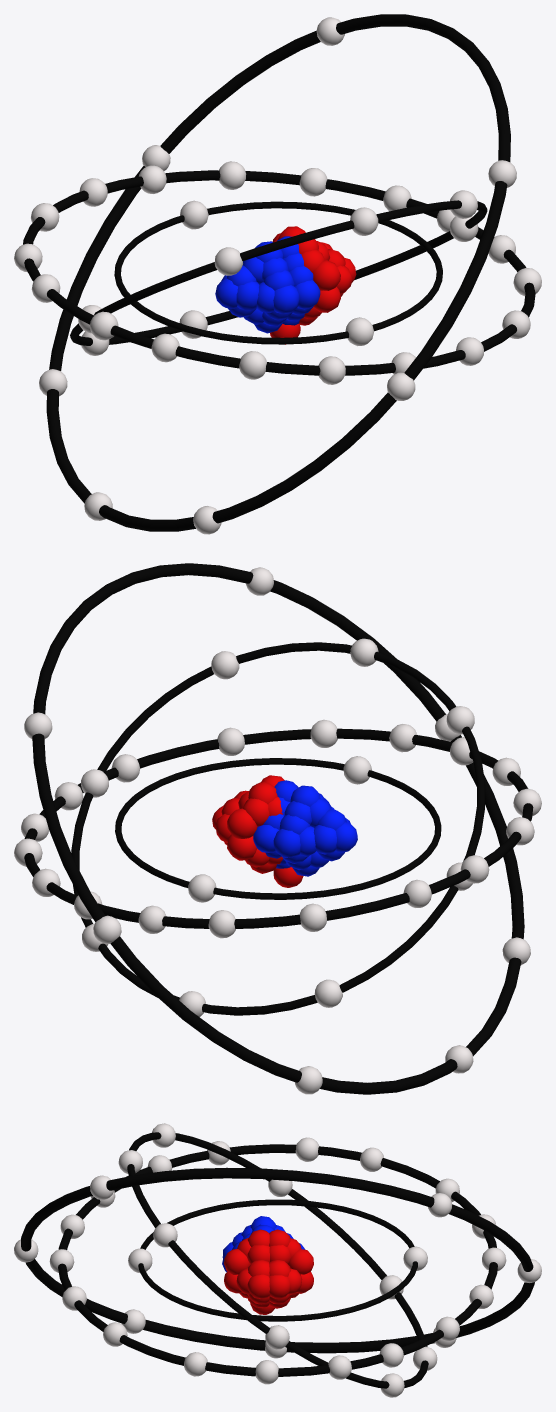
File: 35 Bromo.fbx
The picture shows the model from 3 angles, top to bottom: view 1: azimuth 30°, elevation 25°; view 2: azimuth 150°, elevation 25°; view 3: azimuth 270°, elevation 25°; orthographic projection. The views are drawn at different scales.
Visible parts, largest first — view 1: Orbita.004, Nucleo.001, Orbita.003, Orbita.002, Orbita.001, Electron.009, Electron.012, Electron.015, Electron.028, Electron.024, Electron.019, Electron (+5 smaller); view 2: Orbita.004, Nucleo.001, Orbita.002, Orbita.003, Orbita.001, Electron.010, Electron.006, Electron.001, Electron.021, Electron.014, Electron.025, Electron.017 (+4 smaller); view 3: Orbita.004, Orbita.003, Nucleo.001, Orbita.002, Orbita.001, Electron.008, Electron.030, Electron.016, Electron.029, Electron.023, Electron.010, Electron.022 (+22 smaller).
Boxes of the visible parts, x1=… form: Orbita.004: x1=46, y1=14, x2=510, y2=531; Nucleo.001: x1=215, y1=226, x2=356, y2=344; Orbita.003: x1=23, y1=170, x2=535, y2=375; Orbita.002: x1=70, y1=200, x2=487, y2=345; Orbita.001: x1=114, y1=201, x2=442, y2=344; Electron.009: x1=214, y1=247, x2=242, y2=275; Electron.012: x1=239, y1=351, x2=266, y2=379; Electron.015: x1=299, y1=168, x2=327, y2=196; Electron.028: x1=318, y1=356, x2=345, y2=384; Electron.024: x1=219, y1=161, x2=246, y2=189; Electron.019: x1=387, y1=372, x2=415, y2=400; Electron: x1=345, y1=317, x2=373, y2=346; Orbita.004: x1=32, y1=563, x2=524, y2=1094; Nucleo.001: x1=212, y1=775, x2=357, y2=887; Orbita.002: x1=71, y1=642, x2=485, y2=1015; Orbita.003: x1=24, y1=728, x2=533, y2=928; Orbita.001: x1=115, y1=758, x2=441, y2=899; Electron.010: x1=211, y1=651, x2=239, y2=679; Electron.006: x1=314, y1=979, x2=342, y2=1007; Electron.001: x1=188, y1=874, x2=216, y2=902; Electron.021: x1=310, y1=719, x2=337, y2=747; Electron.014: x1=299, y1=903, x2=326, y2=931; Electron.025: x1=208, y1=910, x2=235, y2=938; Electron.017: x1=217, y1=727, x2=244, y2=755; Orbita.004: x1=21, y1=1167, x2=534, y2=1353; Orbita.003: x1=58, y1=1144, x2=497, y2=1376; Nucleo.001: x1=222, y1=1216, x2=313, y2=1314; Orbita.002: x1=127, y1=1132, x2=428, y2=1388; Orbita.001: x1=138, y1=1199, x2=417, y2=1321; Electron.008: x1=265, y1=1325, x2=289, y2=1349; Electron.030: x1=255, y1=1360, x2=278, y2=1384; Electron.016: x1=328, y1=1355, x2=351, y2=1379; Electron.029: x1=295, y1=1137, x2=318, y2=1161; Electron.023: x1=379, y1=1343, x2=403, y2=1367; Electron.010: x1=153, y1=1223, x2=177, y2=1247; Electron.022: x1=184, y1=1352, x2=207, y2=1376.
Bounding box in the file's own units: 14.54 × 12.43 × 10.31.
